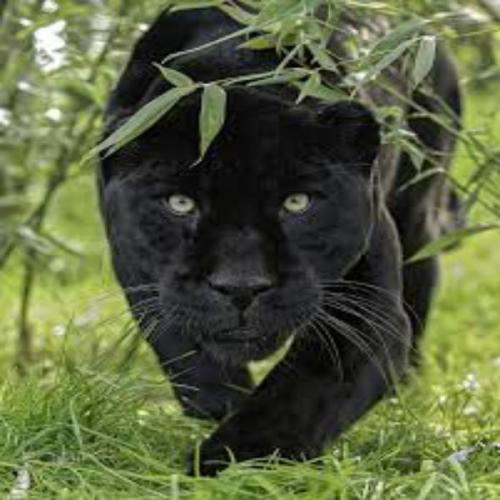panther-endangered: (95, 0, 460, 475)
